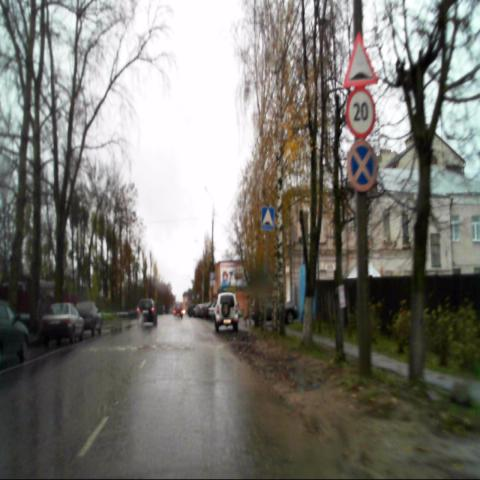1_17: (344, 33, 378, 89)
3_24: (347, 87, 375, 138)
3_27: (347, 139, 377, 191)
5_20: (261, 206, 275, 230)
